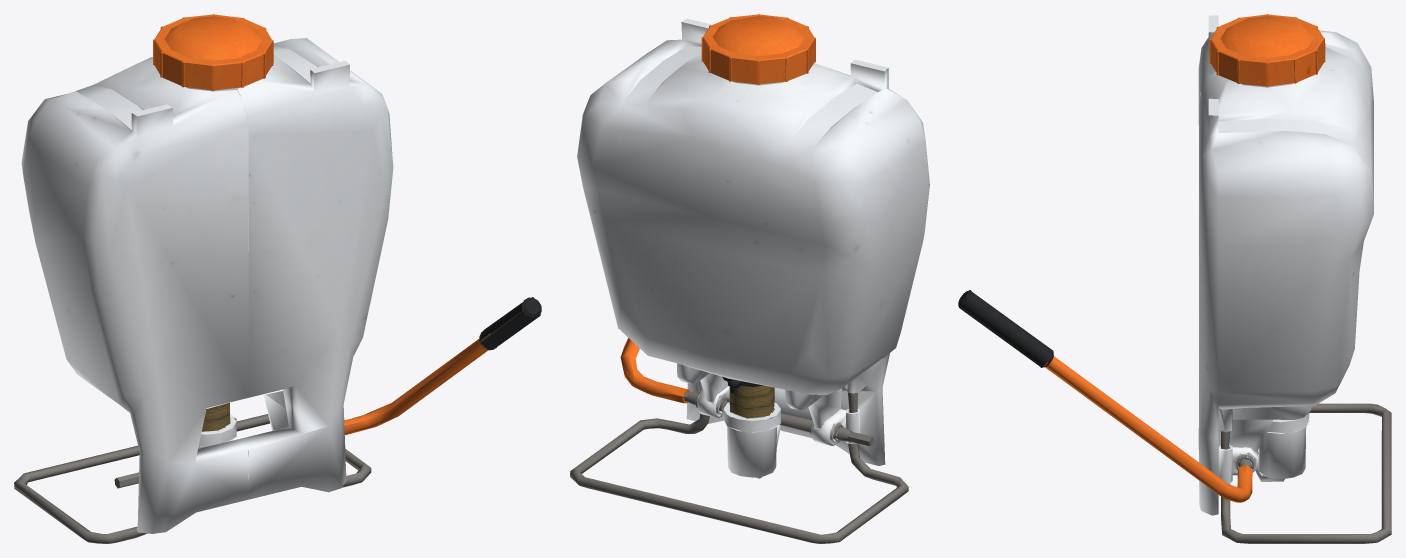
The model's file is PesticideSprayer.fbx.
3 views of the same model, side by side, from view 1: azimuth 30°, elevation 25°; view 2: azimuth 150°, elevation 25°; view 3: azimuth 270°, elevation 25° (orthographic). The views are drawn at different scales.
Parts seen in each view (by area): view 1: Pesticide_Sprayer; view 2: Pesticide_Sprayer; view 3: Pesticide_Sprayer.
Boxes of the visible parts, x1=… form: Pesticide_Sprayer: x1=14, y1=14, x2=541, y2=543; Pesticide_Sprayer: x1=570, y1=14, x2=929, y2=543; Pesticide_Sprayer: x1=958, y1=14, x2=1391, y2=543.
Bounding box in the file's own units: 33.82 × 46.32 × 40.61.
